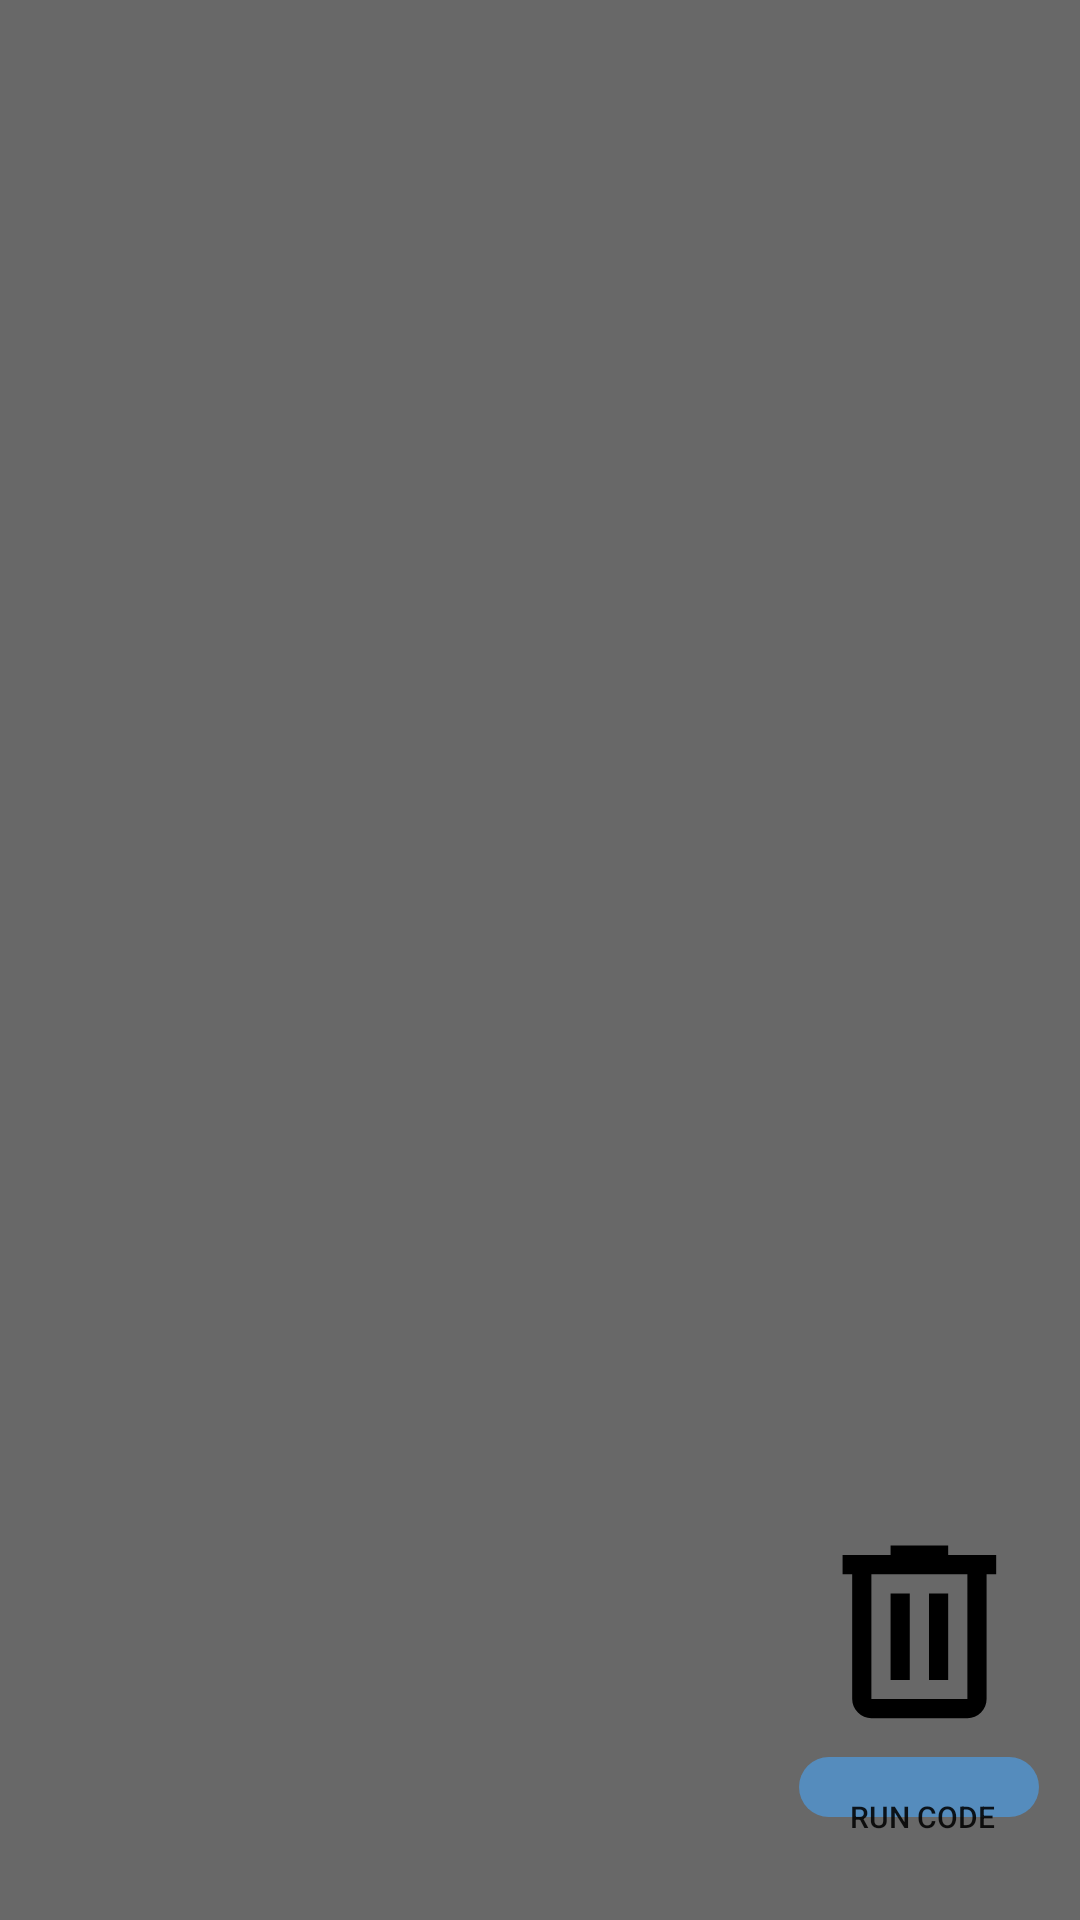

Named icons in this screenshot (1080 x 1920) and their bounding boxes, (x1, y1, x2, y2):
trash bin: (842, 1545, 996, 1719)
